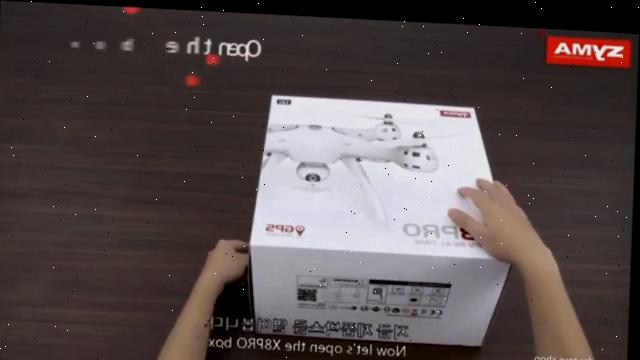drone: (262, 104, 465, 218)
